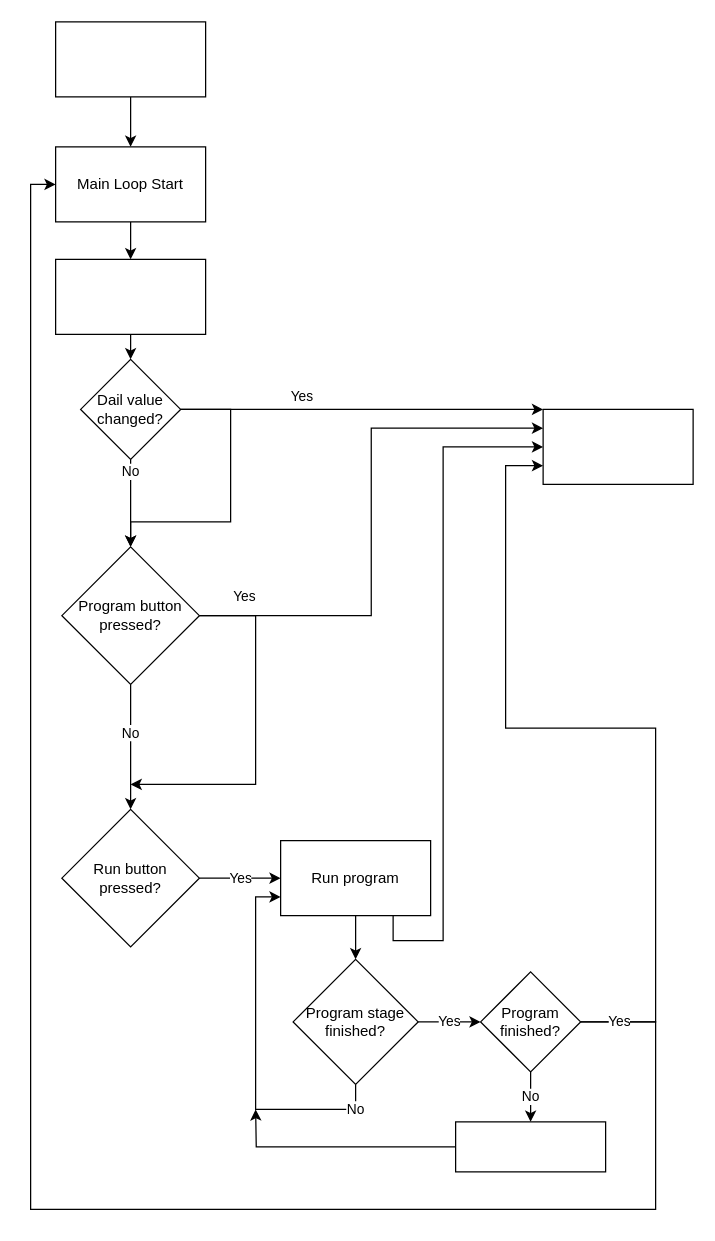
The diagram is 715 pixels wide and 1241 high, and some of its shapes have lost their labels. Here are the shapes that lost their labels. From the top down, the box of each, then its label:
(54, 21, 206, 97): Setup variables
(54, 258, 206, 334): Check input state
(542, 408, 693, 484): Update displate
(454, 1121, 606, 1172): Go to next stage
